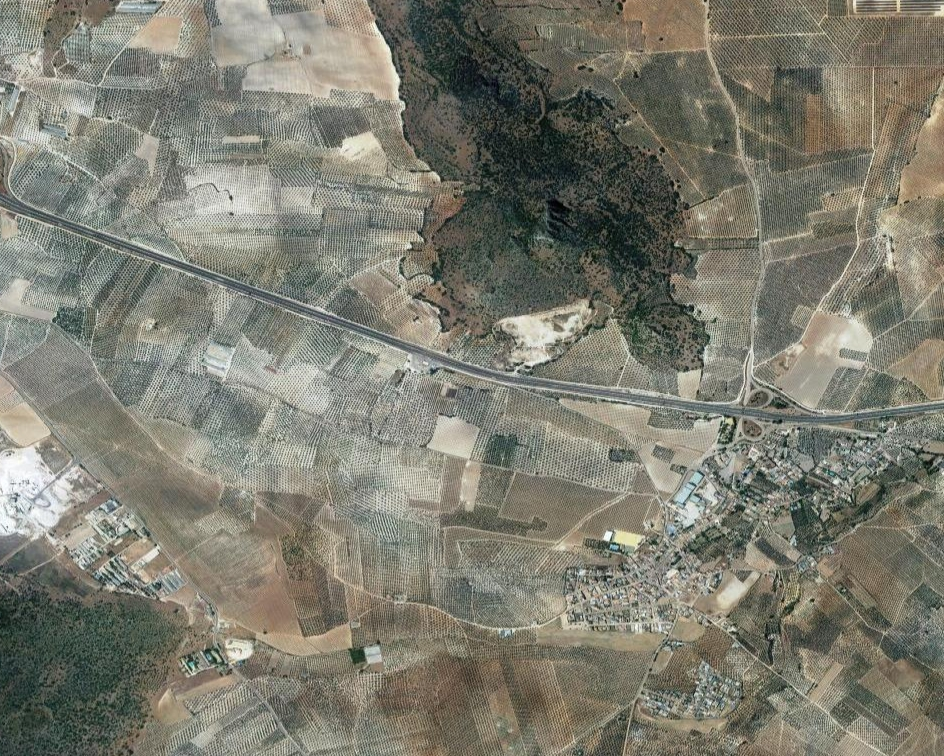motorway: (1, 146, 220, 293), (445, 316, 704, 435), (705, 338, 944, 459), (215, 259, 443, 374)
